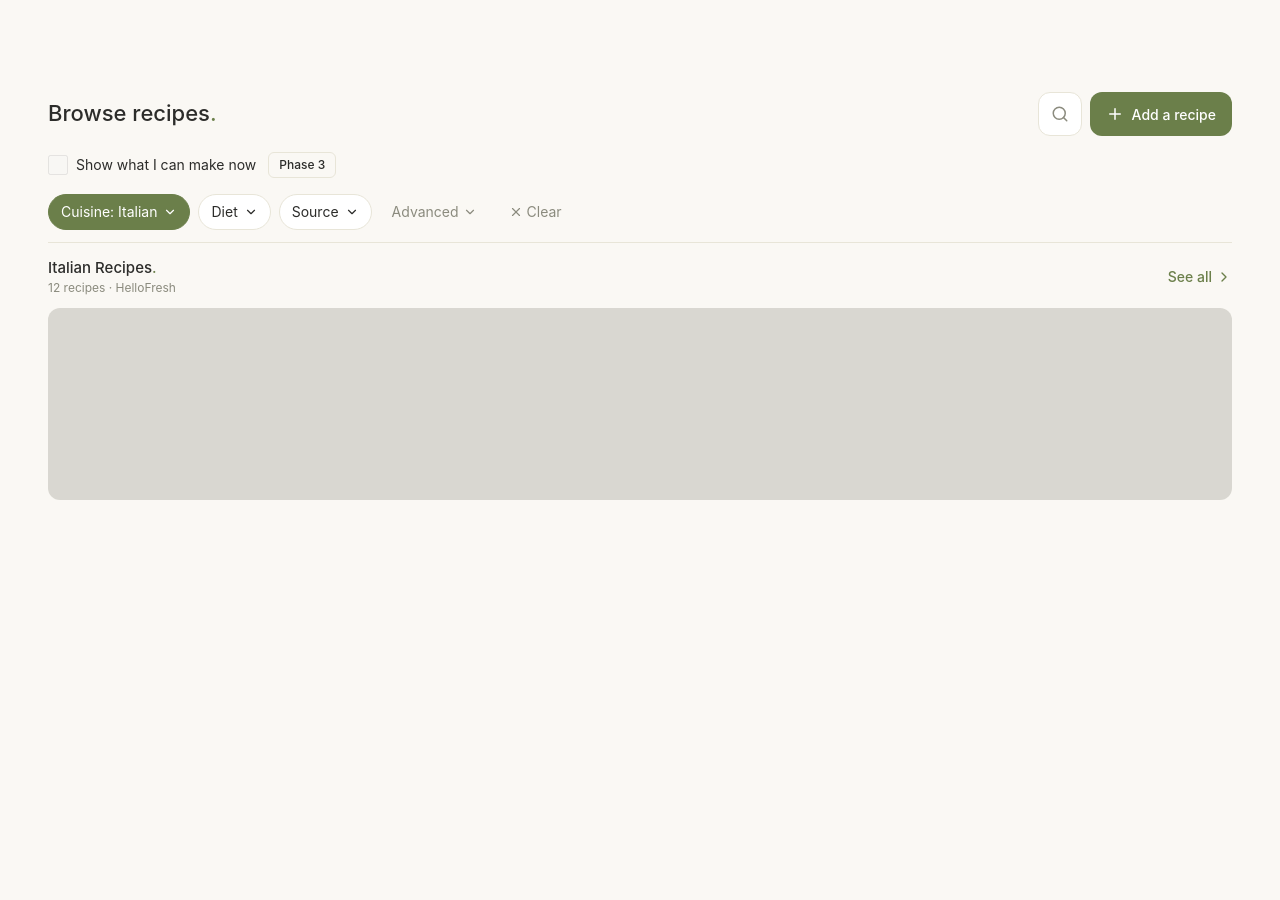
Test case: Recipes page — themes › theme filter › a second theme’s value applies together with the first instead of replacing it
The width and height of the screenshot is (1280, 900).
Click the button "Diet" at (235,212), box x1=198 y1=194 x2=271 y2=230
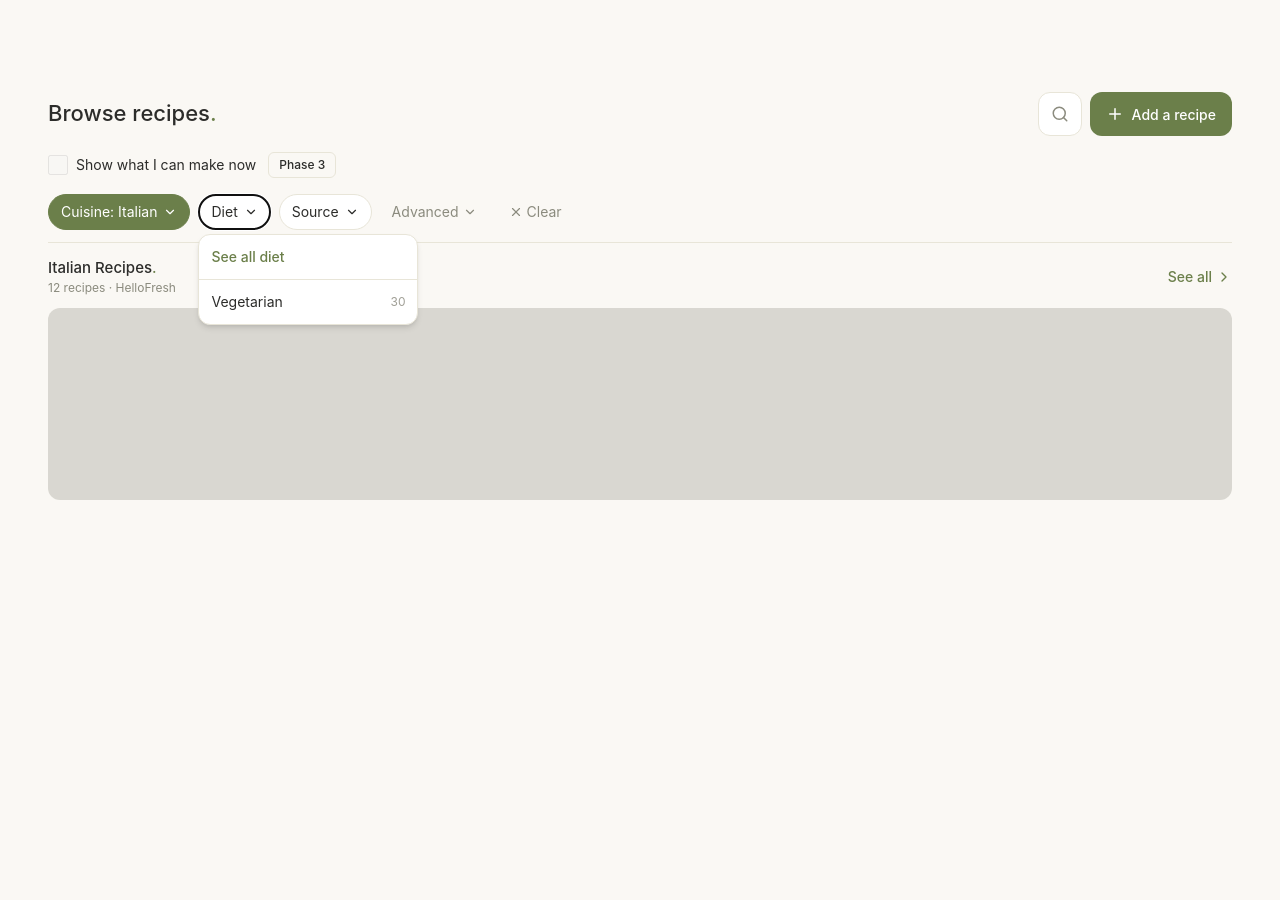
Click the menu item "Vegetarian 30" at (308,302), box x1=200 y1=284 x2=418 y2=320
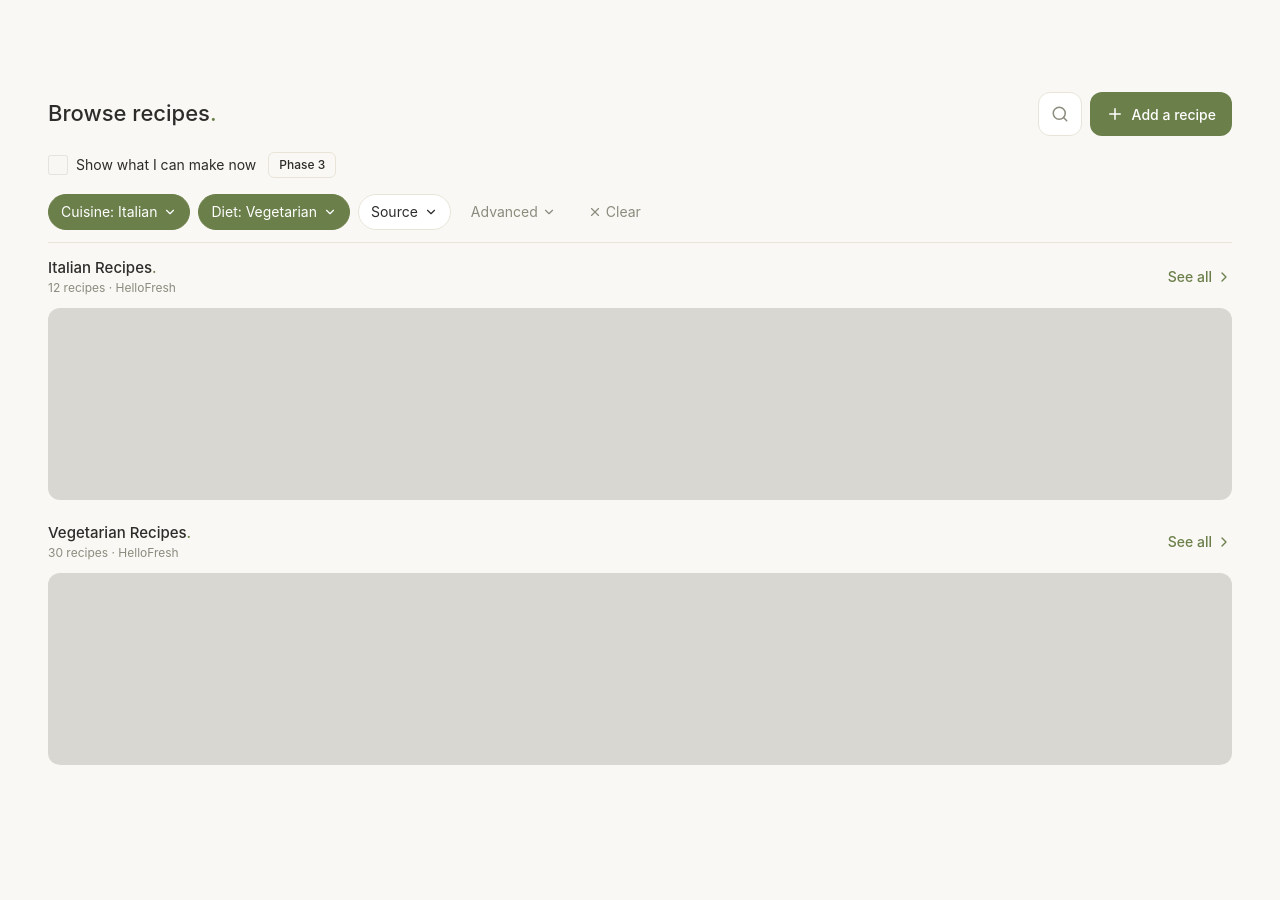
Check: the button "Cuisine: Italian" is shown, box x1=48 y1=194 x2=190 y2=230
Check: the button "Diet: Vegetarian" is shown, box x1=198 y1=194 x2=350 y2=230
Check: the element "Vegetarian Recipes" is shown, box x1=48 y1=524 x2=1232 y2=765
